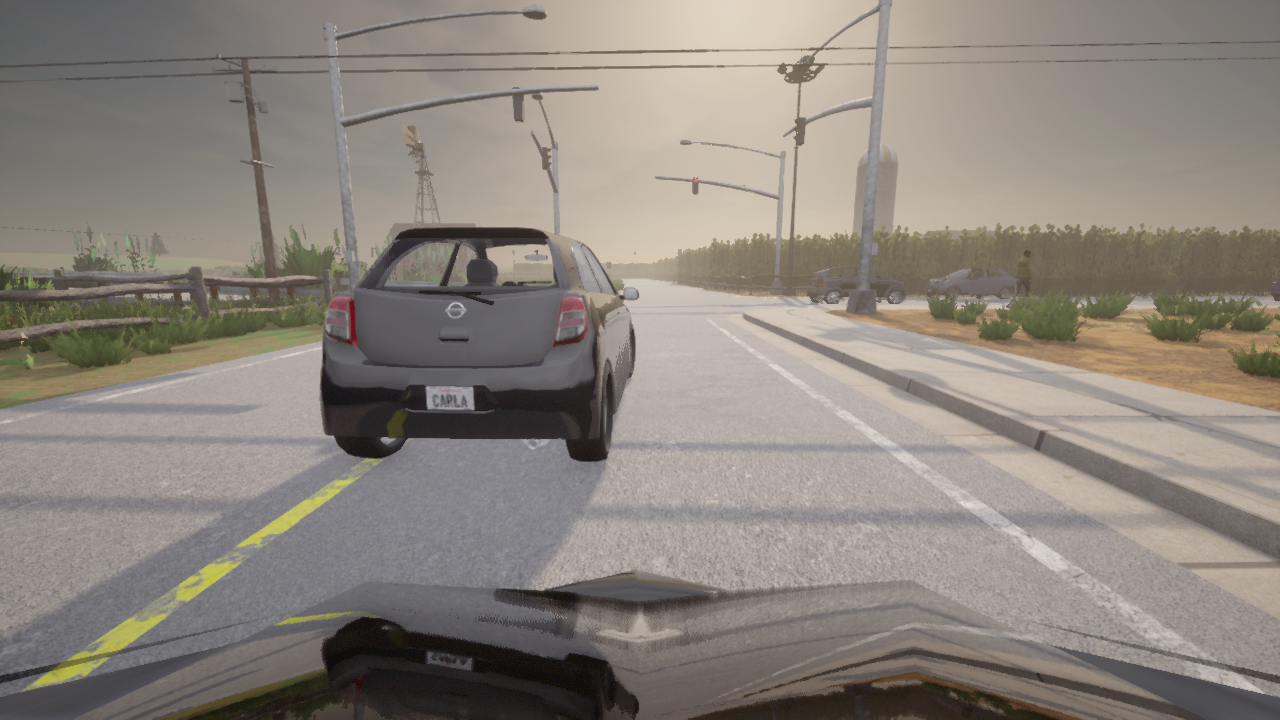cyclist: (0, 569, 1279, 719), (320, 227, 638, 461), (805, 266, 905, 304), (924, 267, 1013, 299), (1267, 278, 1279, 301)
pedestrian: (1005, 248, 1033, 308)
